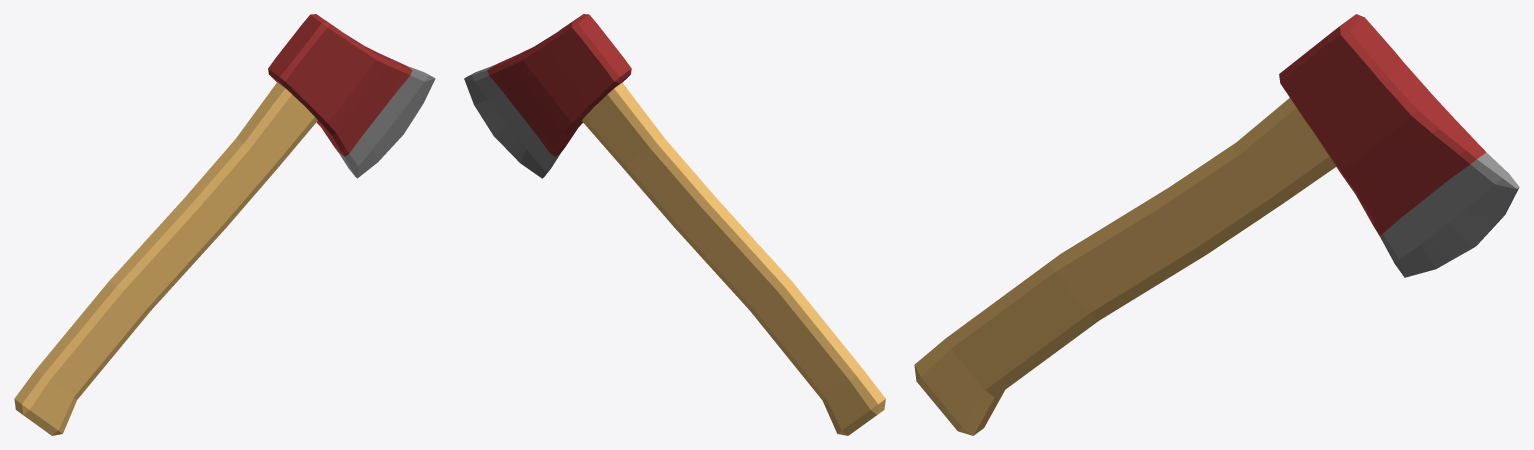
The model's file is Axe.fbx.
3 renders of one model, left to right at view 1: azimuth 30°, elevation 25°; view 2: azimuth 150°, elevation 25°; view 3: azimuth 330°, elevation 25°, orthographic. The views are drawn at different scales.
Parts seen in each view (by area): view 1: Axe; view 2: Axe; view 3: Axe.
Boxes of the visible parts, <box> form: Axe: <box>14,14,435,435</box>; Axe: <box>464,14,885,435</box>; Axe: <box>914,14,1519,435</box>.
Bounding box in the file's own units: 15.18 × 12.17 × 1.05.
